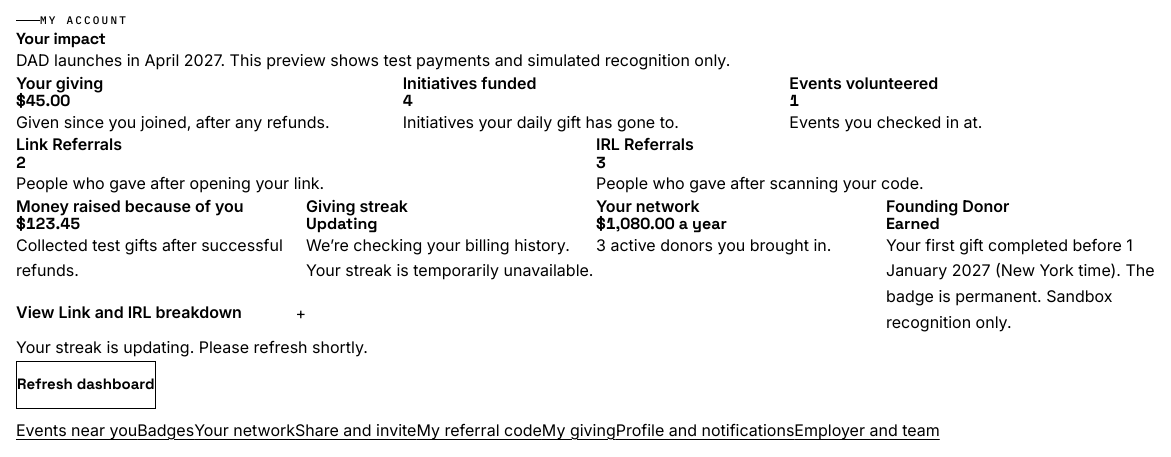
Test case: can refresh an unavailable streak while keeping verified referral totals
Expected: the text "$123.45" is shown, left=16, top=213, right=80, bottom=234
Expected: the message shows "Your streak is updating", left=16, top=337, right=368, bottom=357
Click the button "Refresh dashboard".
click(86, 385)  # box left=16, top=361, right=156, bottom=409
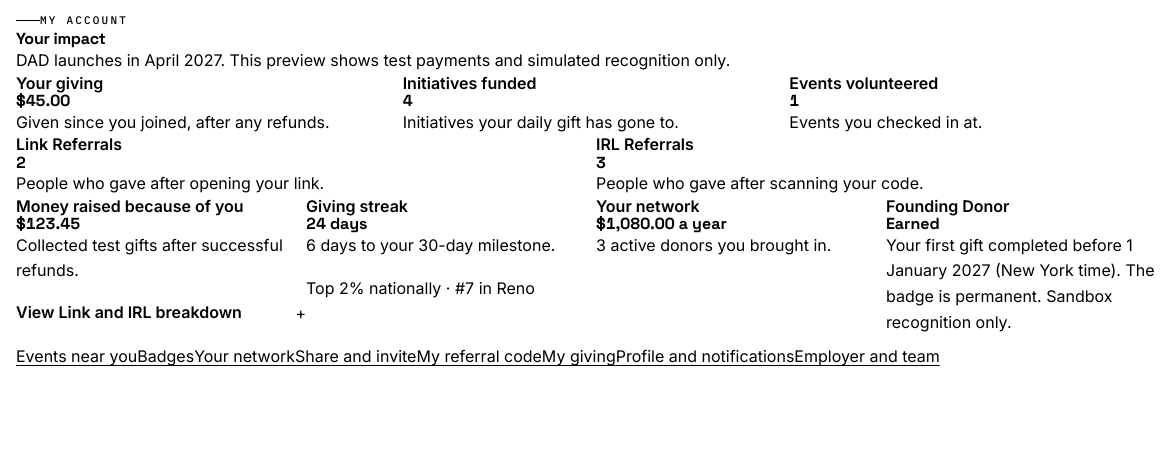
Expected: the text "$123.45" is shown, left=16, top=213, right=80, bottom=234
Expected: the text "24 days" is shown, left=306, top=213, right=367, bottom=234
Expected: the button "Refresh dashboard" is gone
